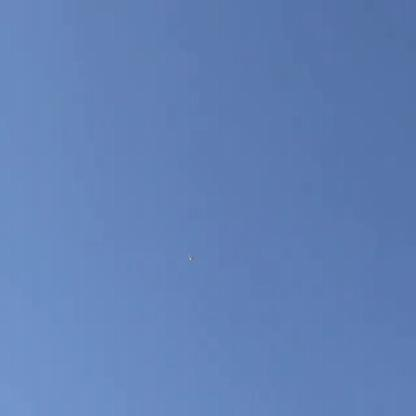CIV_Plane: (186, 247, 194, 266)
